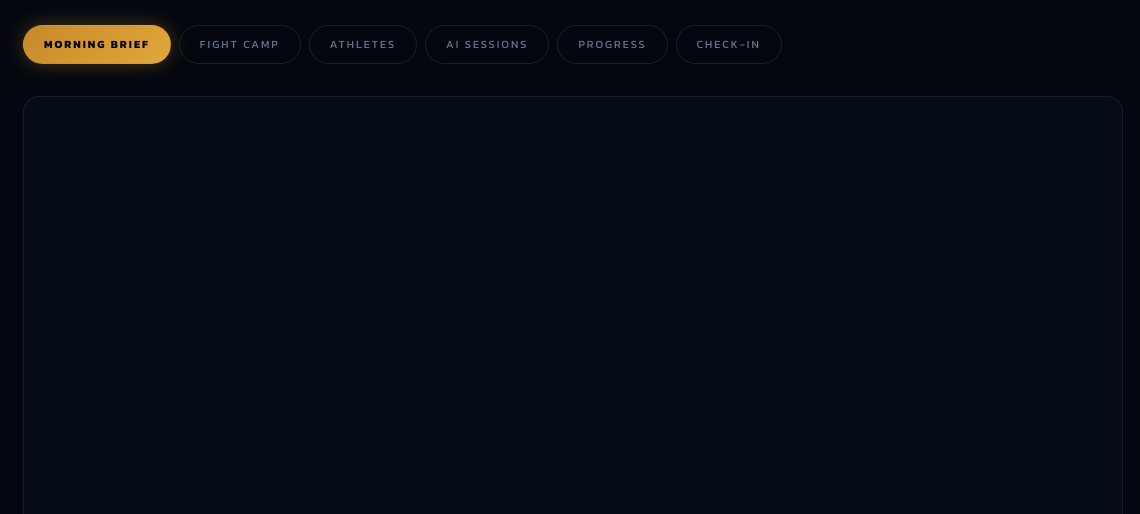
Test case: Features tabs › switches to Athletes panel on click
Click the button "Athletes" at (363, 44), box [309,25,417,64]
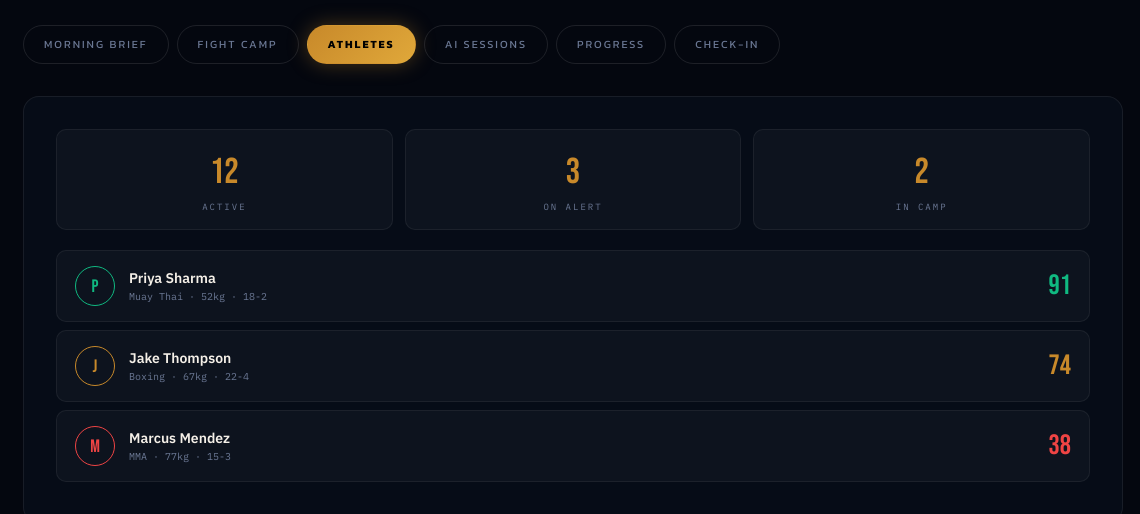
Check: the text "IN CAMP" is shown, box [896,200,948,212]
